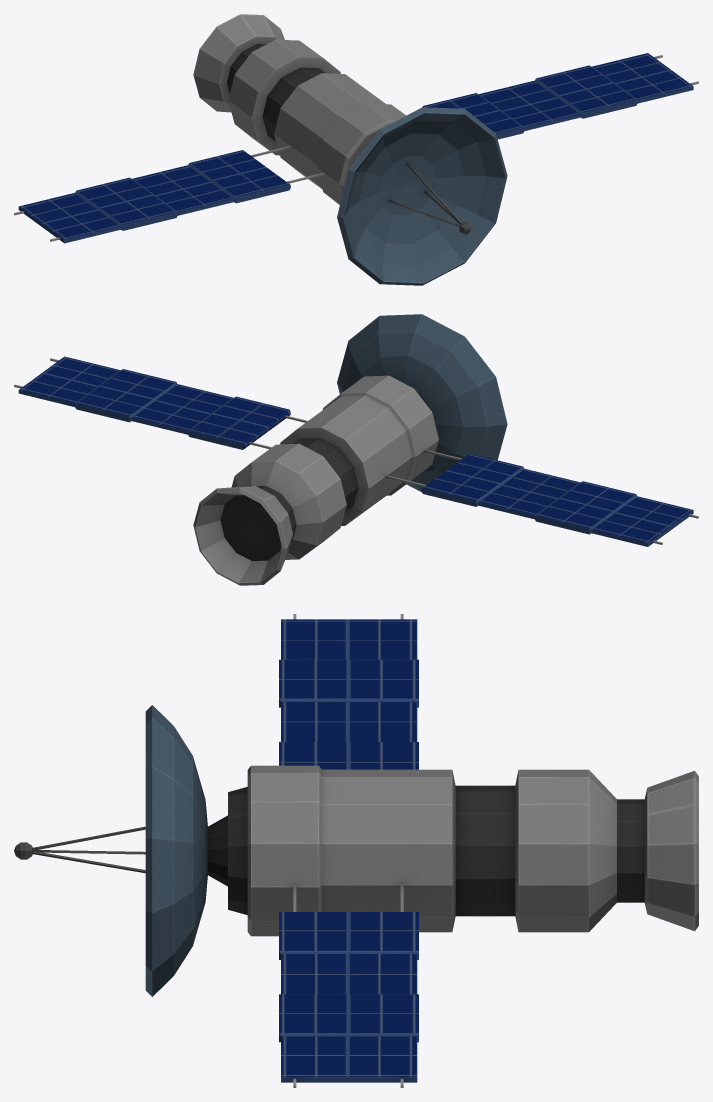
Rendered from Satellite(1).obj.
3 renders of one model, top to bottom at view 1: azimuth 30°, elevation 25°; view 2: azimuth 150°, elevation 25°; view 3: azimuth 270°, elevation 25°, orthographic. The views are drawn at different scales.
Parts seen in each view (by area): view 1: Satellite_mesh; view 2: Satellite_mesh; view 3: Satellite_mesh.
Part boxes in pixels (x1,y1,x2,y2): Satellite_mesh: [14, 14, 698, 285]; Satellite_mesh: [14, 314, 698, 585]; Satellite_mesh: [14, 614, 698, 1087].
Size of the model in its own units: 41.03 by 10.8 by 25.21.
1 material, 1 textured.
